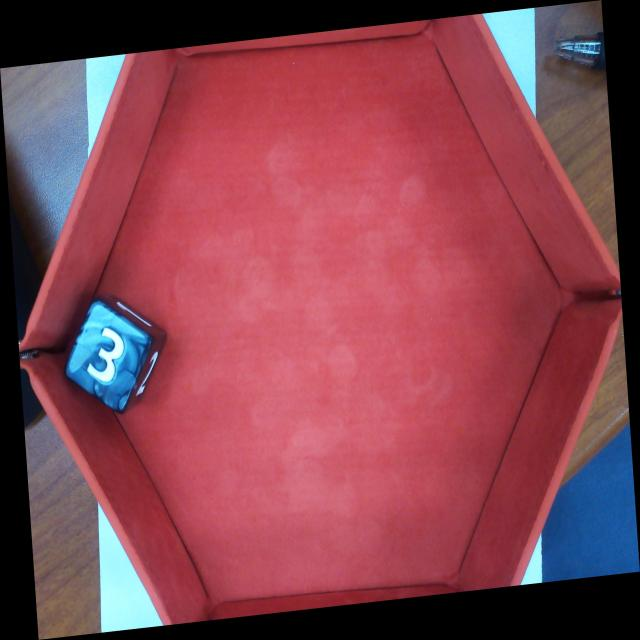dice: (64, 299, 153, 414)
